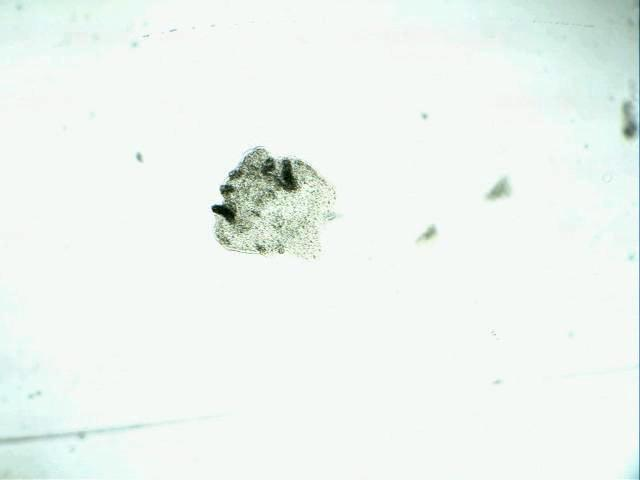Placozoan: (209, 145, 344, 265)
